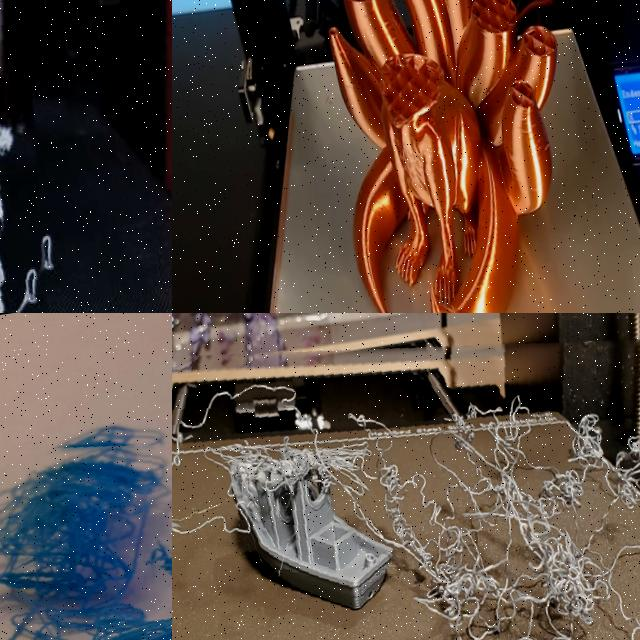spaghetti: (172, 313, 640, 640), (0, 409, 172, 640), (0, 0, 85, 313)
